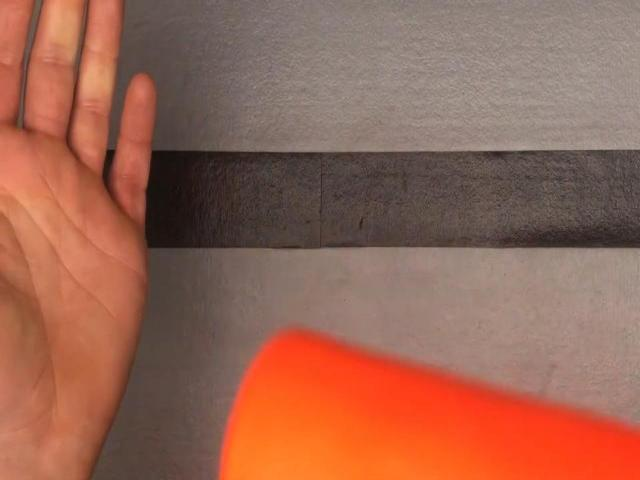hammer: (218, 330, 640, 480)
